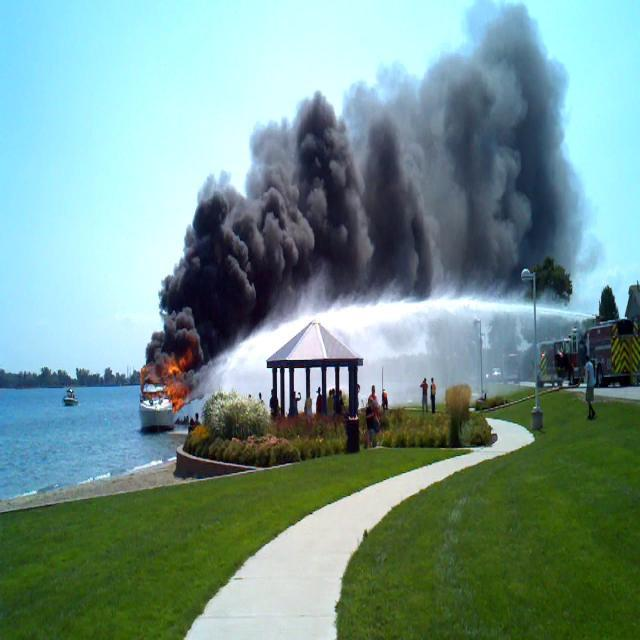Fire: (161, 351, 190, 403)
Smoke: (152, 39, 584, 358)
